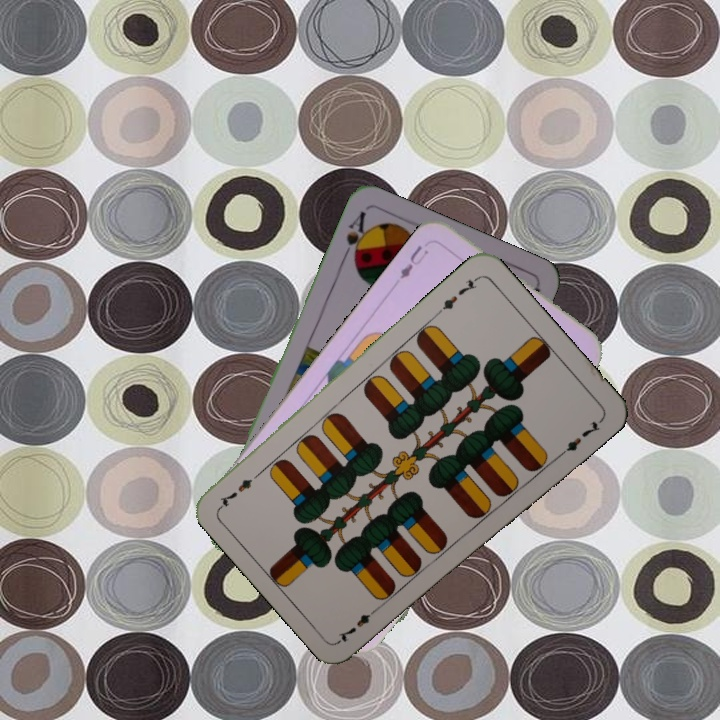E7: (334, 601, 383, 645), (434, 272, 481, 317)
EU: (396, 240, 432, 282)
SA: (337, 207, 372, 268)
